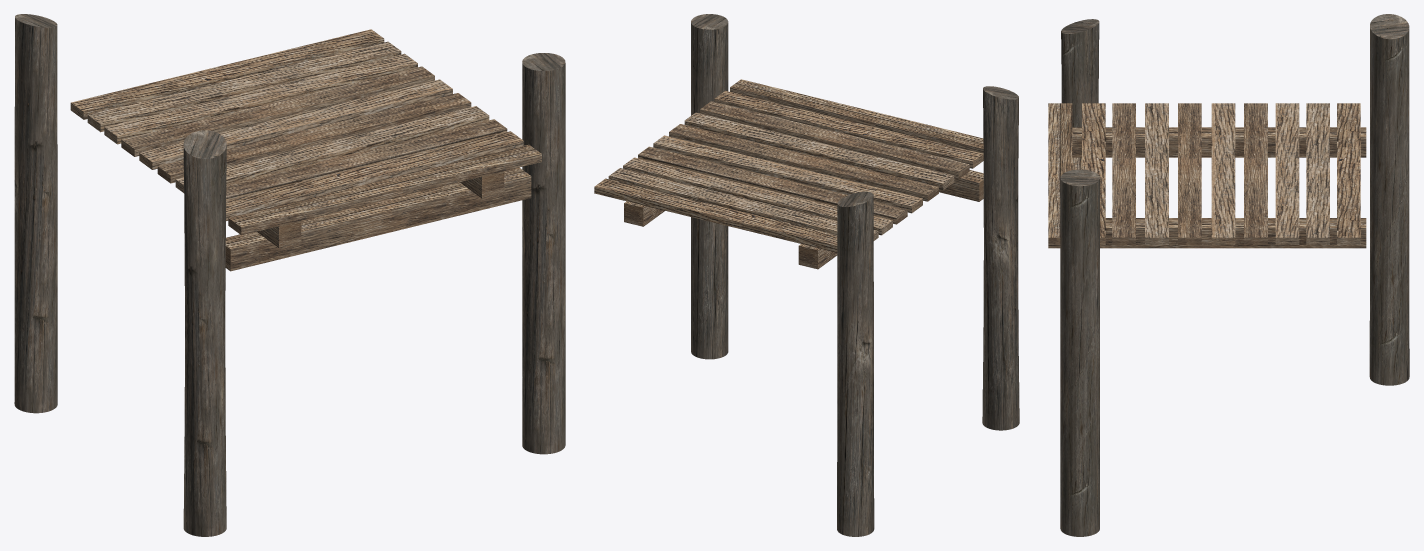
File: muelle.fbx
The picture shows the model from 3 angles, left to right: view 1: azimuth 30°, elevation 25°; view 2: azimuth 150°, elevation 25°; view 3: azimuth 270°, elevation 25°; orthographic projection. The views are drawn at different scales.
Visible parts, largest first — view 1: columna, tablas.010; view 2: tablas.010, columna; view 3: tablas.010, columna.
Part boxes in pixels (<box>): columna: <box>14,14,565,536</box>; tablas.010: <box>70,29,541,247</box>; tablas.010: <box>594,79,983,269</box>; columna: <box>691,14,1019,536</box>; tablas.010: <box>1048,103,1366,248</box>; columna: <box>1060,14,1409,536</box>.
Size of the model in its own units: 501 by 494 by 455.
Materials: 2 (2 with a texture image).
